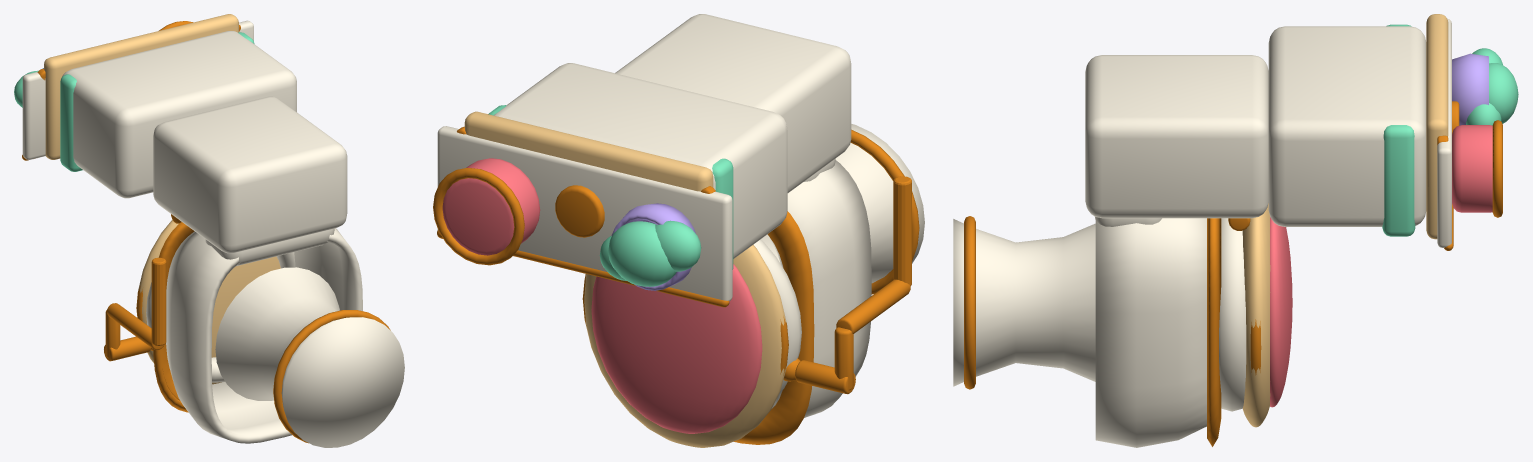
Rendered from BathroomToilet_Premium.fbx.
The picture shows the model from 3 angles, left to right: view 1: azimuth 30°, elevation 25°; view 2: azimuth 150°, elevation 25°; view 3: azimuth 270°, elevation 25°; orthographic projection. The views are drawn at different scales.
Parts seen in each view (by area): view 1: BathroomToilet; view 2: BathroomToilet; view 3: BathroomToilet.
Part boxes in pixels (x1,y1,x2,y2): BathroomToilet: (14, 14, 404, 447); BathroomToilet: (433, 14, 924, 447); BathroomToilet: (953, 14, 1518, 447).
Bounding box in the file's own units: 0.8853 × 1.08 × 1.54.
